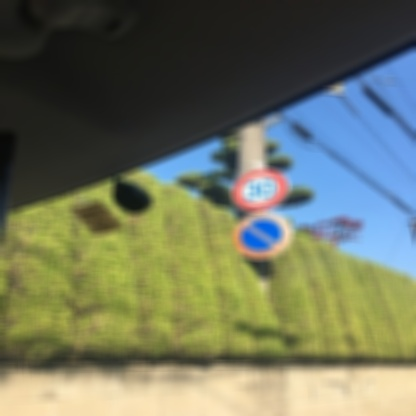Prohibition_sign: (228, 212, 299, 264)
Speed_sign: (227, 166, 290, 214)
